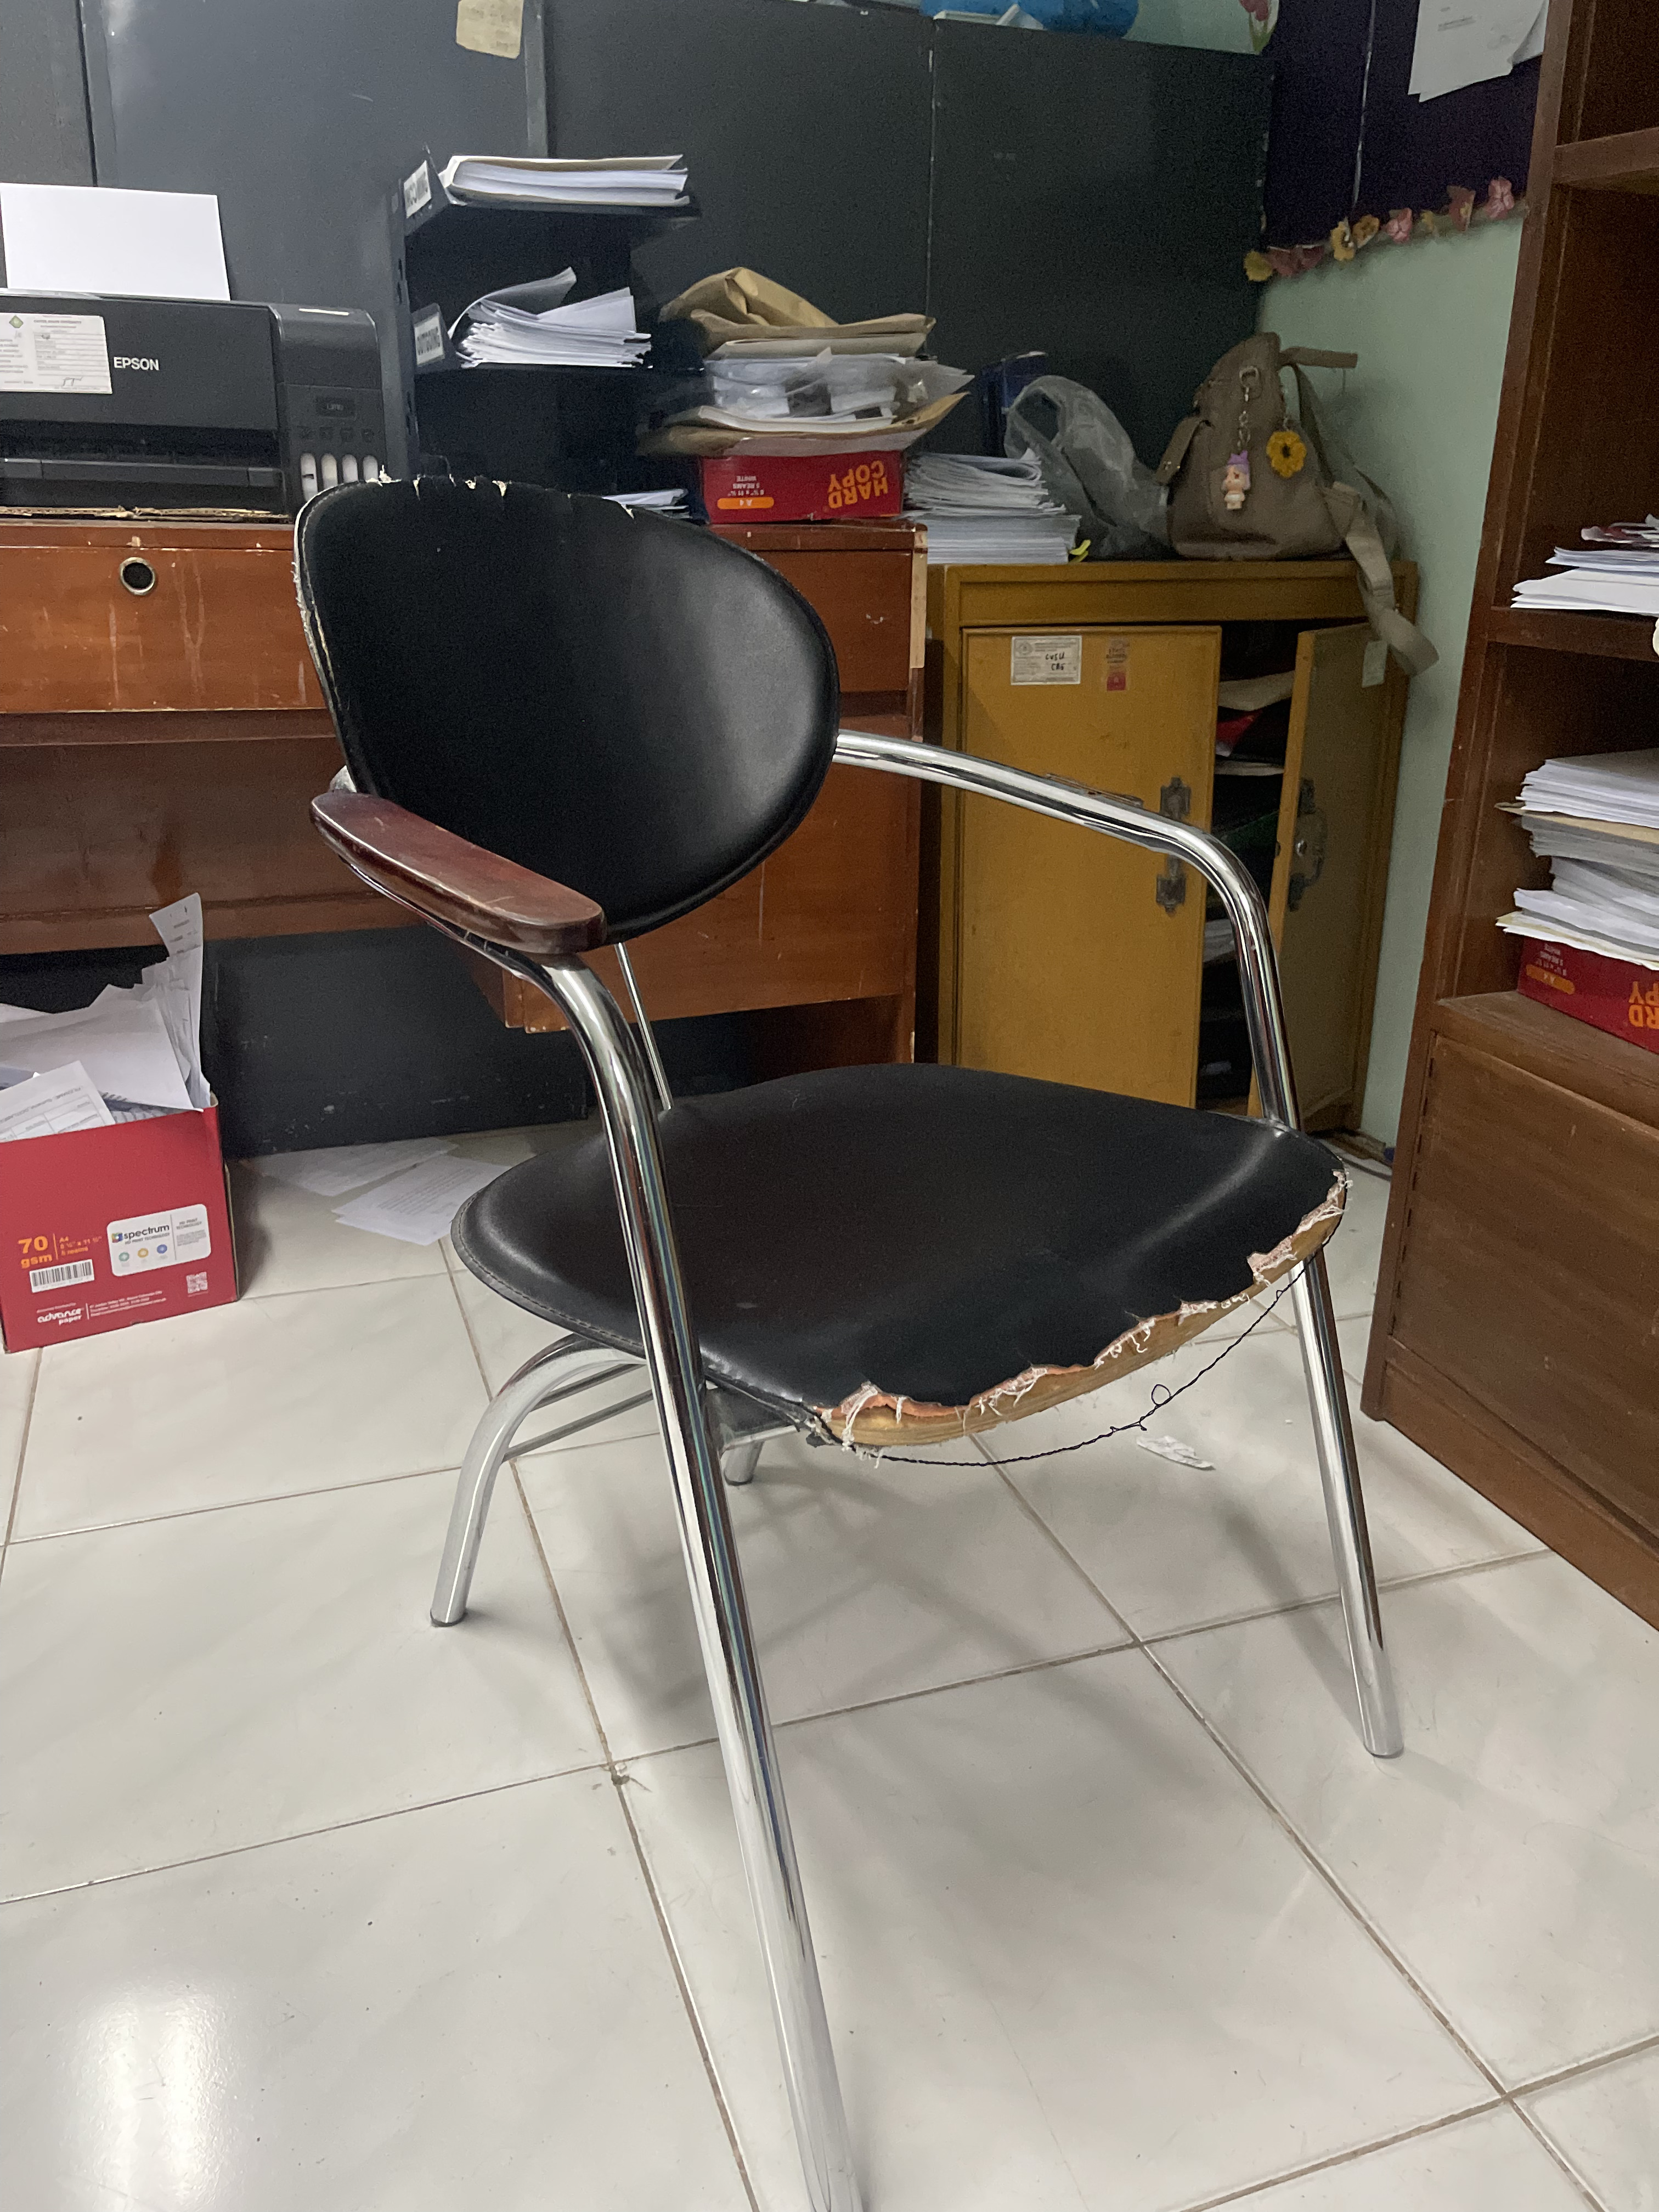chair1: (281, 467, 1420, 2212)
